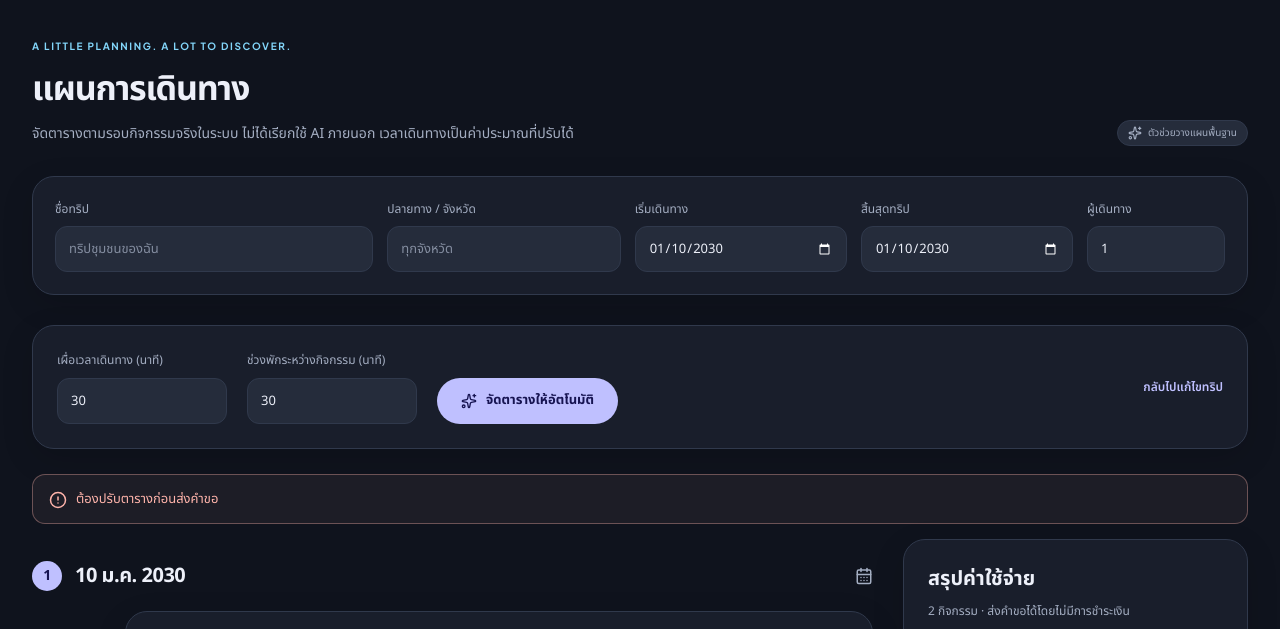
Scenario: Working UI interactions › the planner fixes conflicting sessions using real recorded slots
Expected: the text "ต้องปรับตารางก่อนส่งคำขอ" is shown, [76,488,218,510]
Click the button "จัดตารางให้อัตโนมัติ".
click(527, 401)  # box [437,378,618,424]
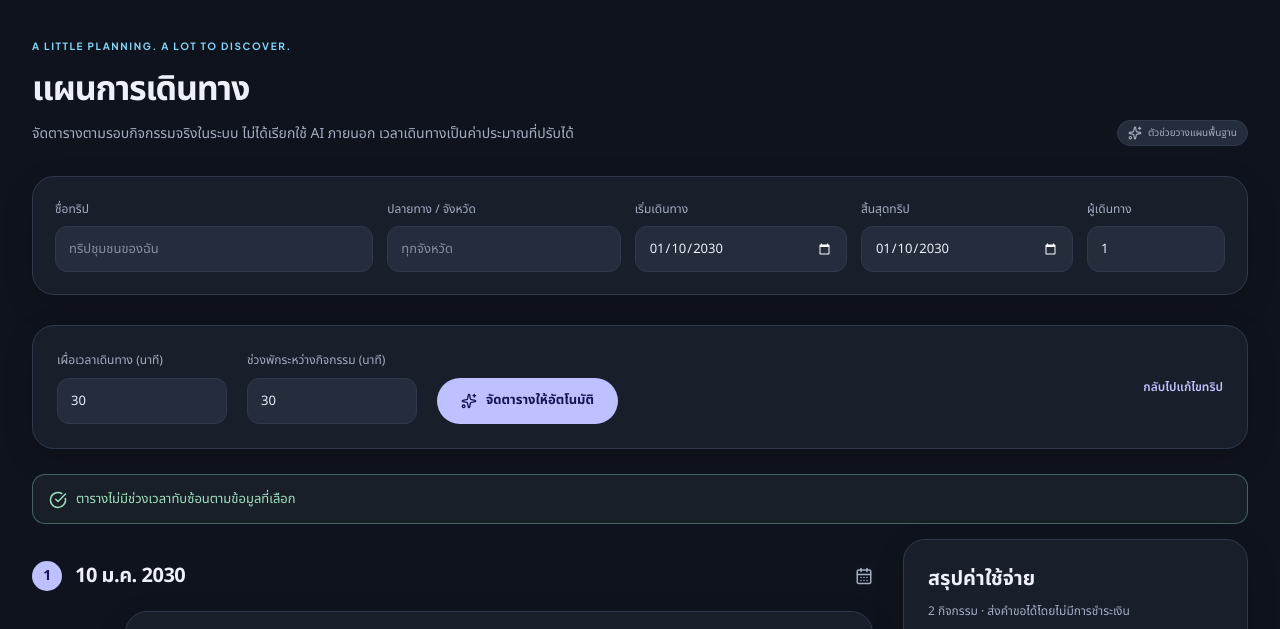
Expected: the text "ตารางไม่มีช่วงเวลาทับซ้อนตามข้อมูลที่เลือก" is shown, [76,488,296,510]
